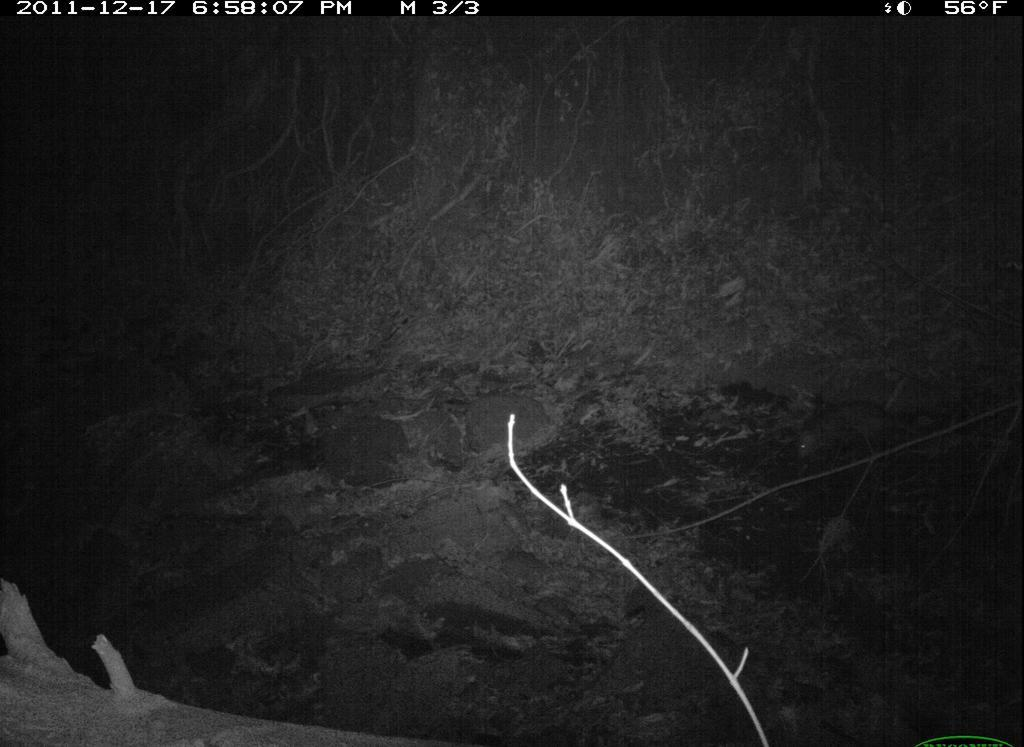opossum: (789, 392, 958, 468)
